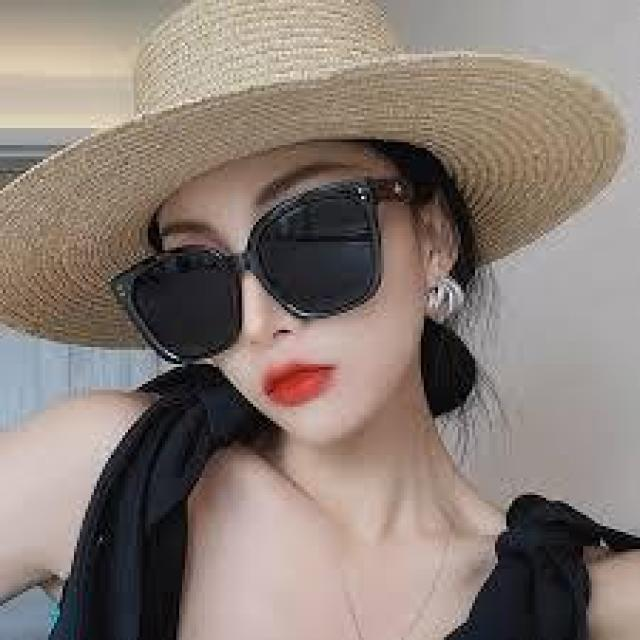hat: (3, 3, 626, 350)
